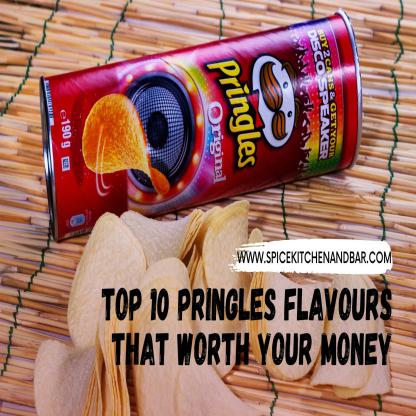potatochip: (30, 0, 368, 245)
